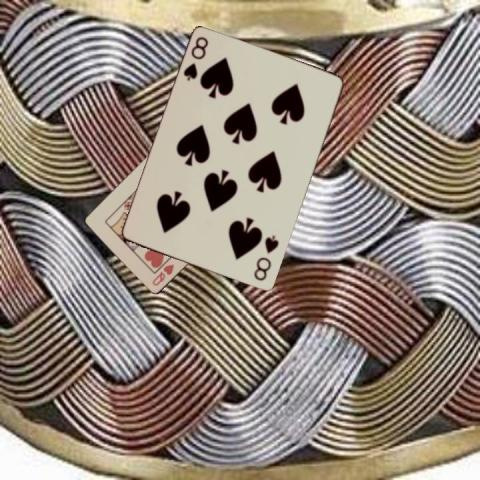8s: (250, 232, 280, 283), (181, 33, 210, 83)
Qh: (150, 261, 176, 287)
